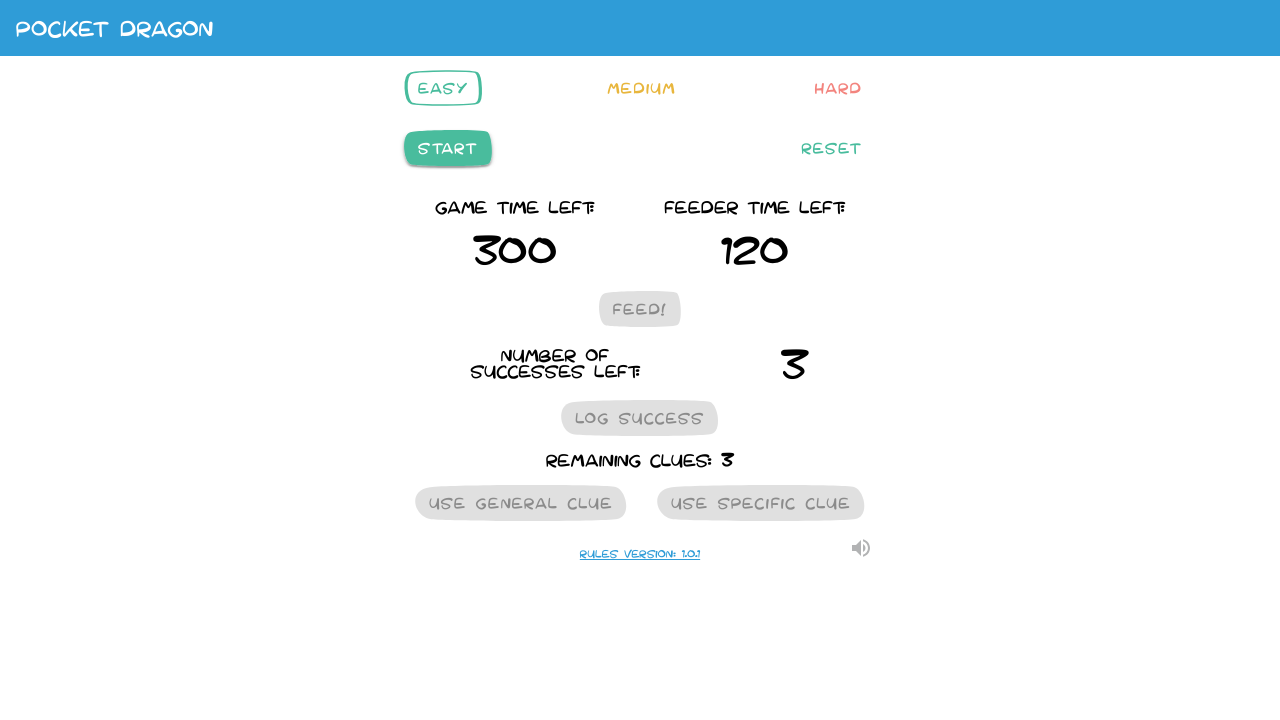
Test: App › disables difficulty switching while the game is running
The image size is (1280, 720).
expect the button with test id "difficulty-easy" is enabled: met, box [400,66,486,110]
Click the button with test id "start-pause".
click(448, 148)  # box [400,126,496,170]
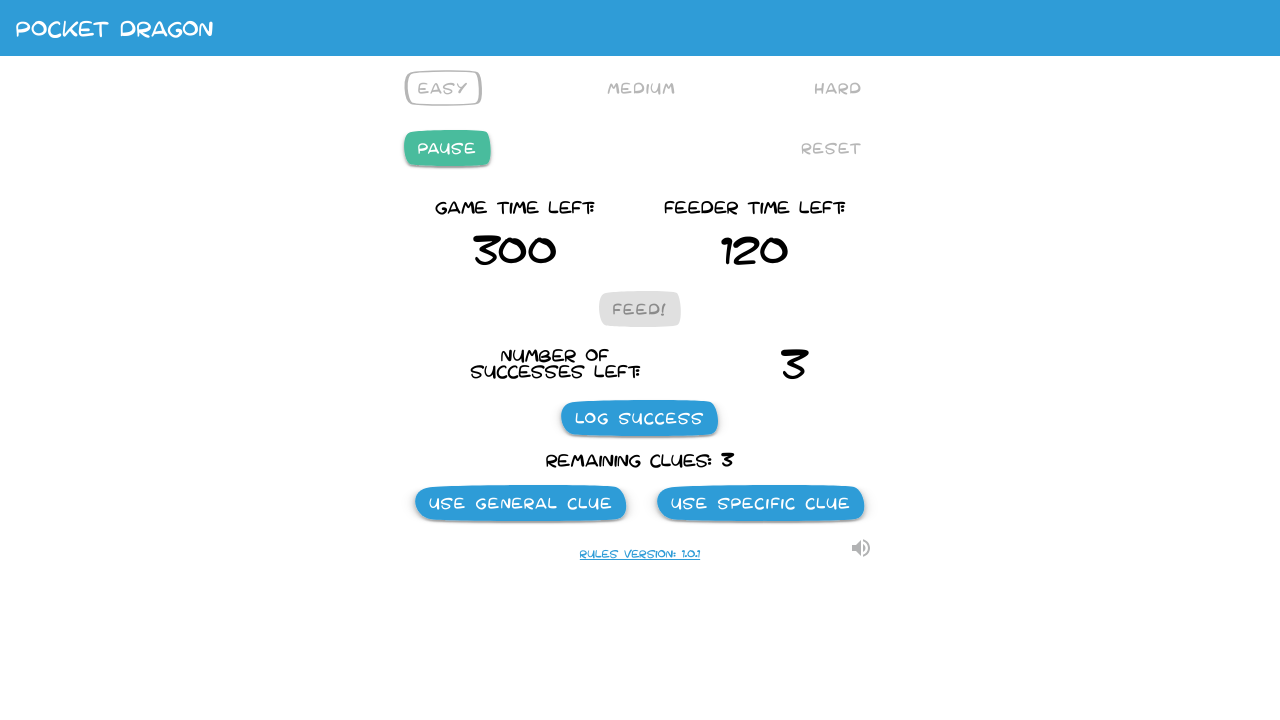
expect the button with test id "difficulty-easy" is disabled: met, box [400,66,486,110]
expect the button with test id "difficulty-medium" is disabled: met, box [590,66,694,110]
Click the button with test id "start-pause".
click(447, 148)  # box [400,126,495,170]
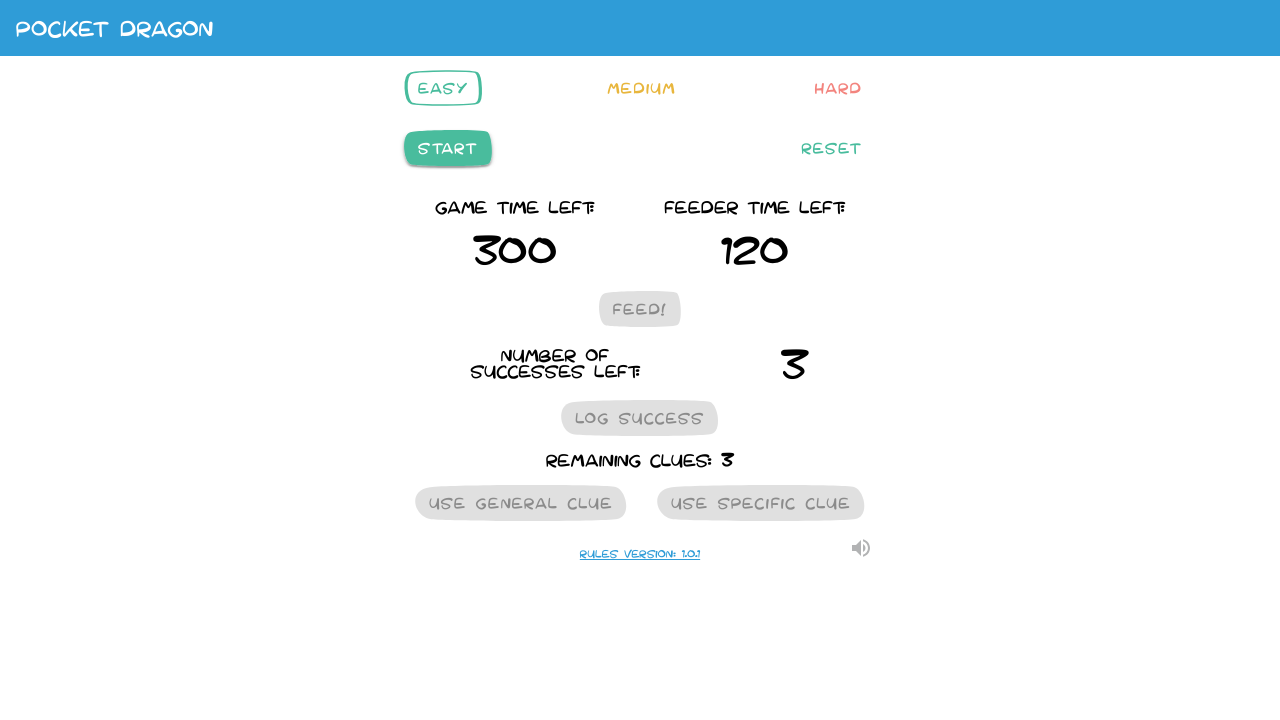
expect the button with test id "difficulty-easy" is enabled: met, box [400,66,486,110]
